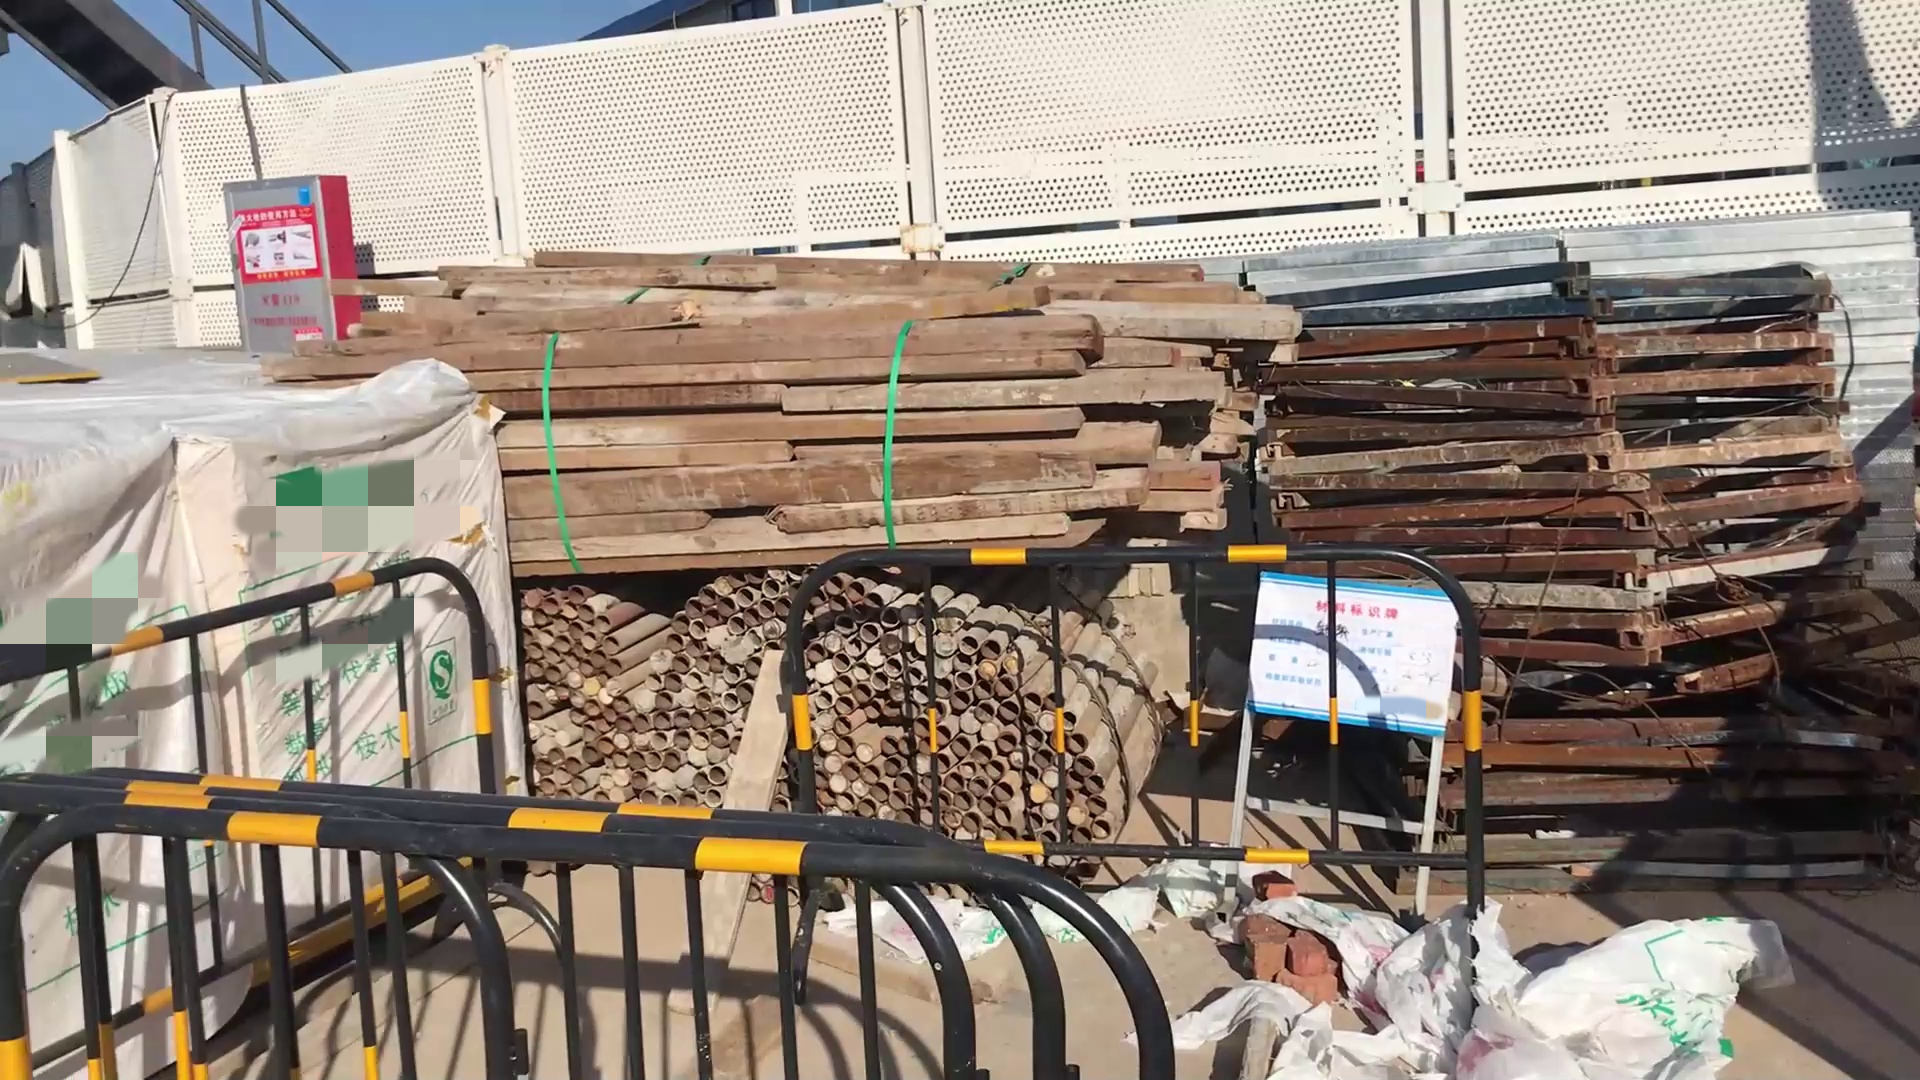fence: (1, 781, 1174, 1080), (786, 537, 1494, 870), (7, 554, 509, 957)
rebar: (502, 575, 1162, 851)
scaffold: (1309, 299, 1874, 869)
wood: (335, 268, 1274, 537)
